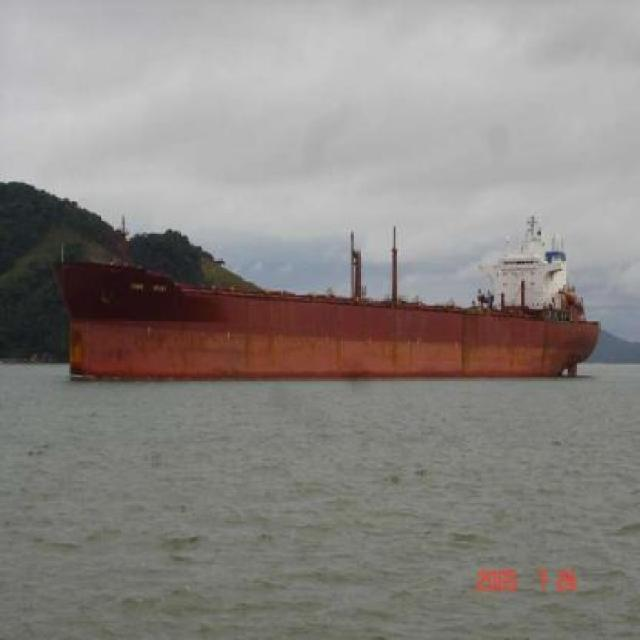ship: (49, 213, 606, 384)
